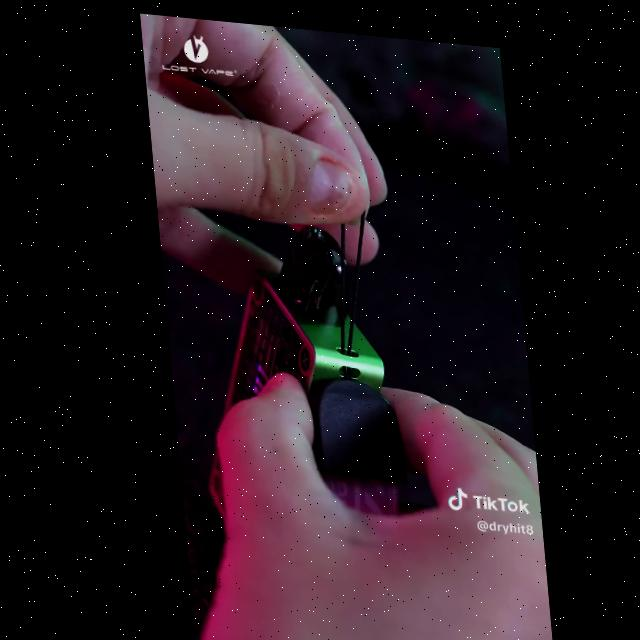vape: (178, 206, 398, 567)
